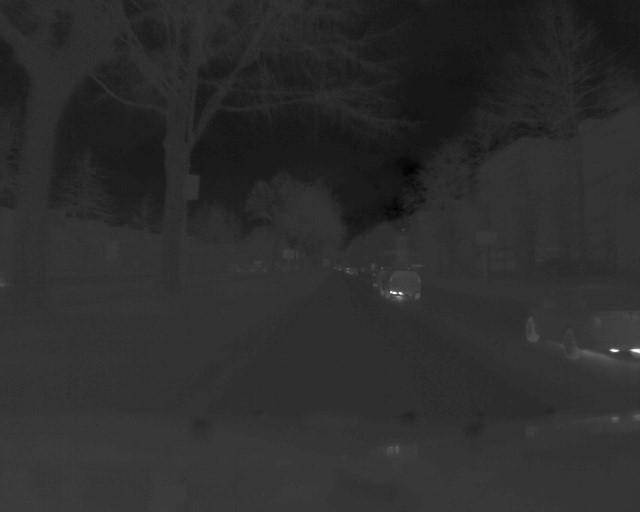car: (523, 283, 640, 359), (378, 263, 424, 303)
